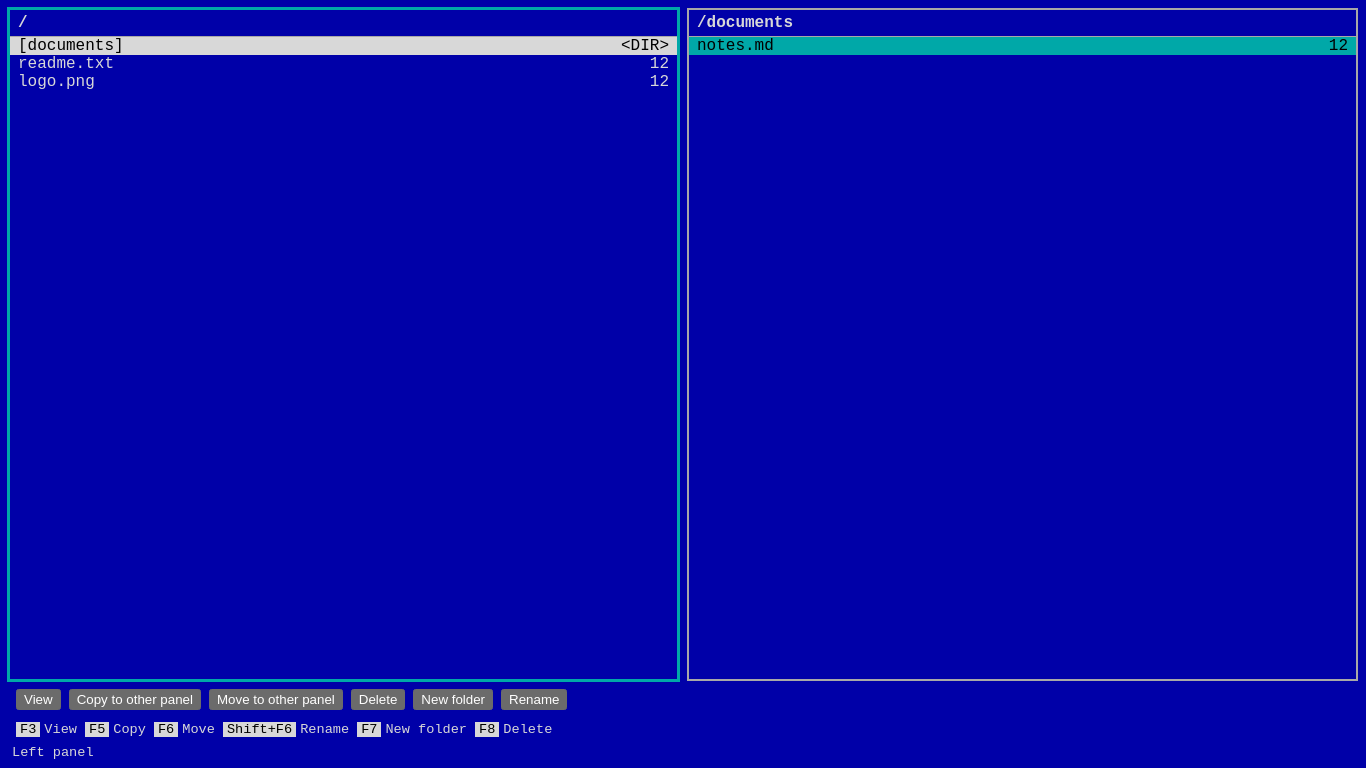
Test case: §REQ:TWO-PNL-NVGT-OOX-090 previewing the selected text file › §REQ:TWO-PNL-NVGT-OOX-090 the file's textual content is shown to the user
This screenshot has width=1366, height=768.
Click the option "readme.txt 12" at (66, 64), box x1=10 y1=55 x2=677 y2=73
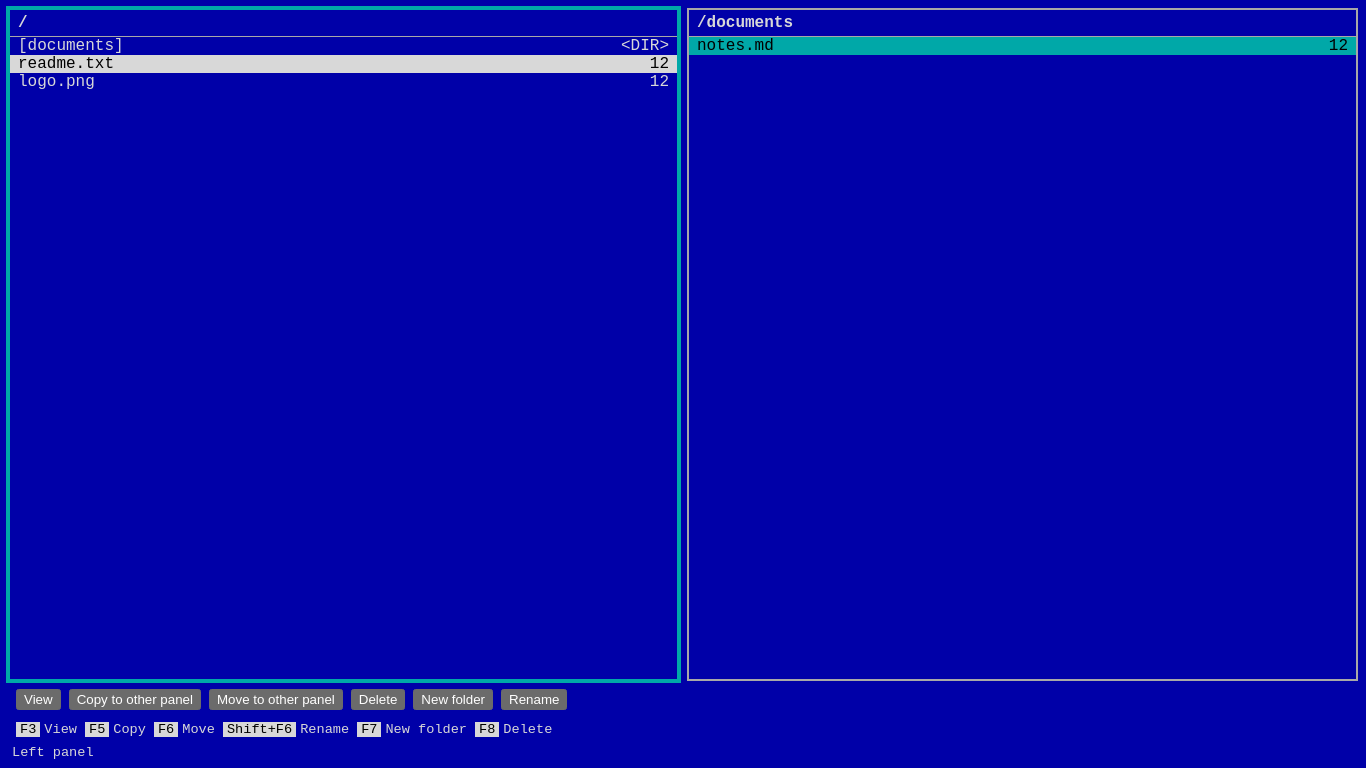
Click the button "View" at (38, 700), box x1=16 y1=689 x2=61 y2=710
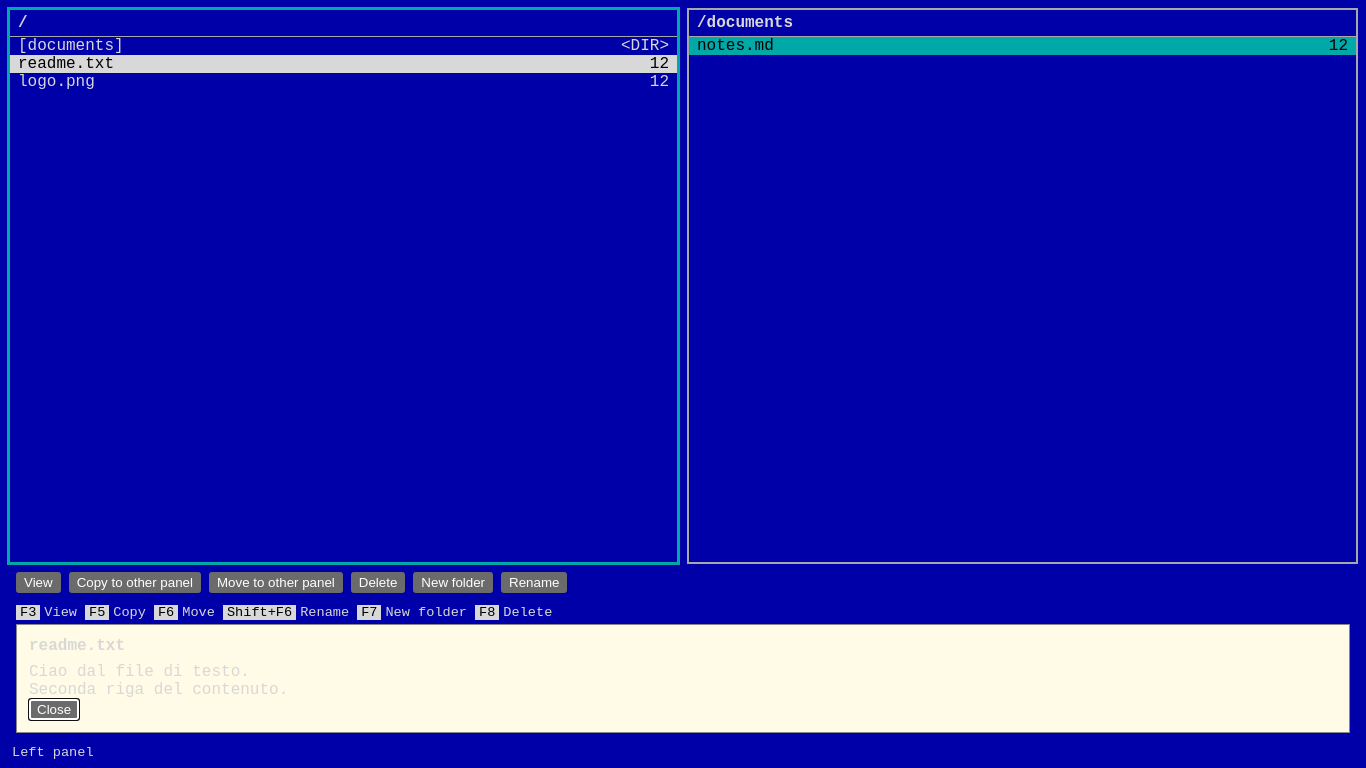
Expected: the text "readme.txt" below "[documents]" is shown, x1=18 y1=55 x2=114 y2=73
Result: the text "Ciao dal file di testo. Seconda riga del contenuto." is shown at x1=29 y1=663 x2=288 y2=699
Result: the dialog named "preview" shows "readme.txt" at x1=29 y1=637 x2=125 y2=655
